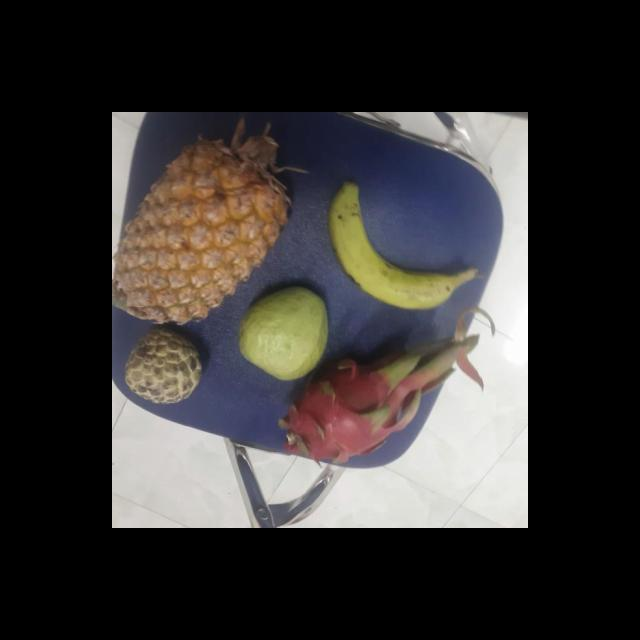Sakya fruit: (124, 327, 207, 402)
banana: (327, 190, 475, 308)
guava: (238, 286, 332, 381)
pitaya: (286, 352, 410, 467)
